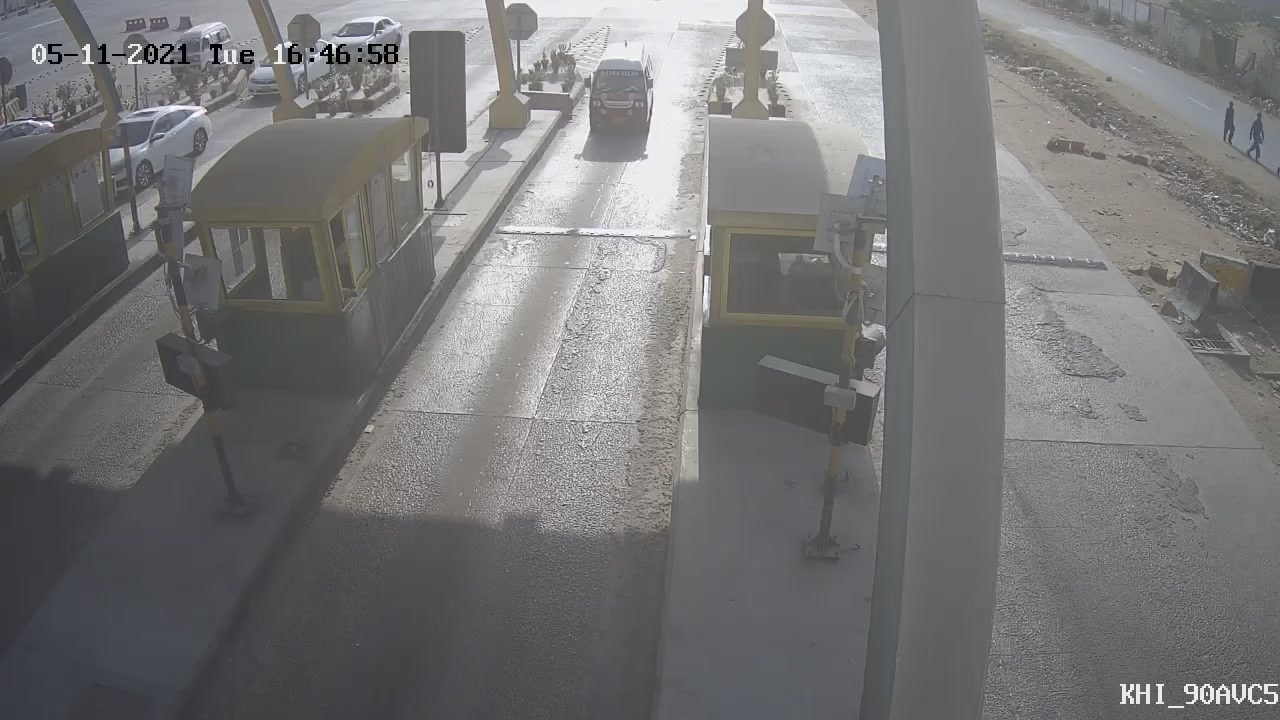F1: (572, 29, 665, 157)
